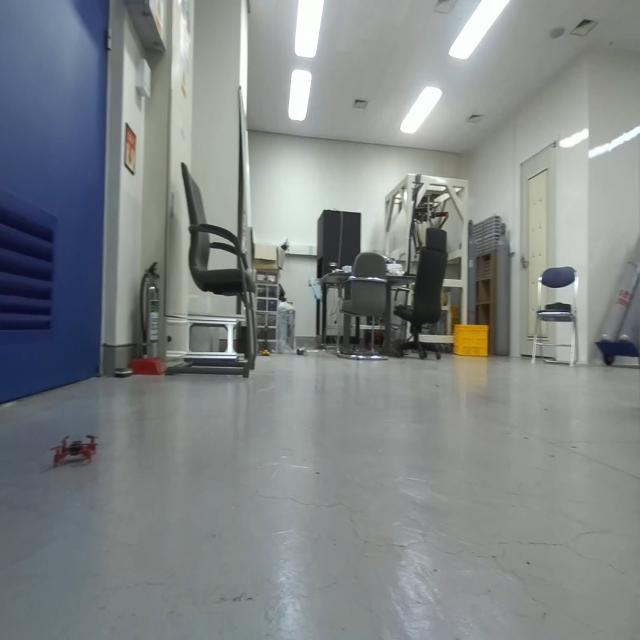crazyflie: (48, 427, 98, 472)
